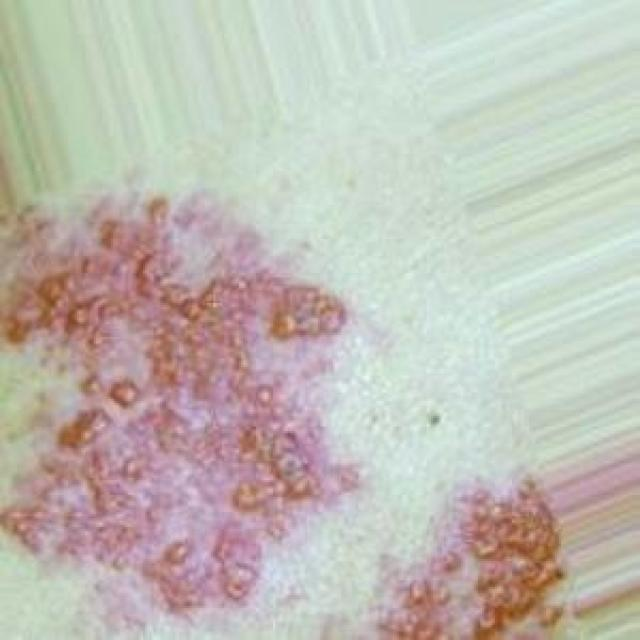Shingles: (0, 190, 360, 609), (380, 463, 564, 640)
